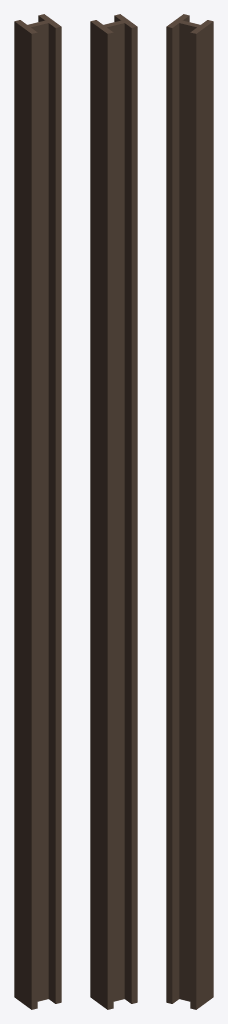
File: DBK_Rebar_Plank_Middle.fbx
The picture shows the model from 3 angles, left to right: view 1: azimuth 30°, elevation 25°; view 2: azimuth 210°, elevation 25°; view 3: azimuth 330°, elevation 25°; orthographic projection.
Parts seen in each view (by area): view 1: DBK_Rebar_Plank_Middle; view 2: DBK_Rebar_Plank_Middle; view 3: DBK_Rebar_Plank_Middle.
Part boxes in pixels (left/top/right/bottom): DBK_Rebar_Plank_Middle: left=14, top=14, right=61, bottom=1009; DBK_Rebar_Plank_Middle: left=90, top=14, right=137, bottom=1009; DBK_Rebar_Plank_Middle: left=166, top=14, right=213, bottom=1009.
Bounding box in the file's own units: 9.62 × 300 × 9.62.
